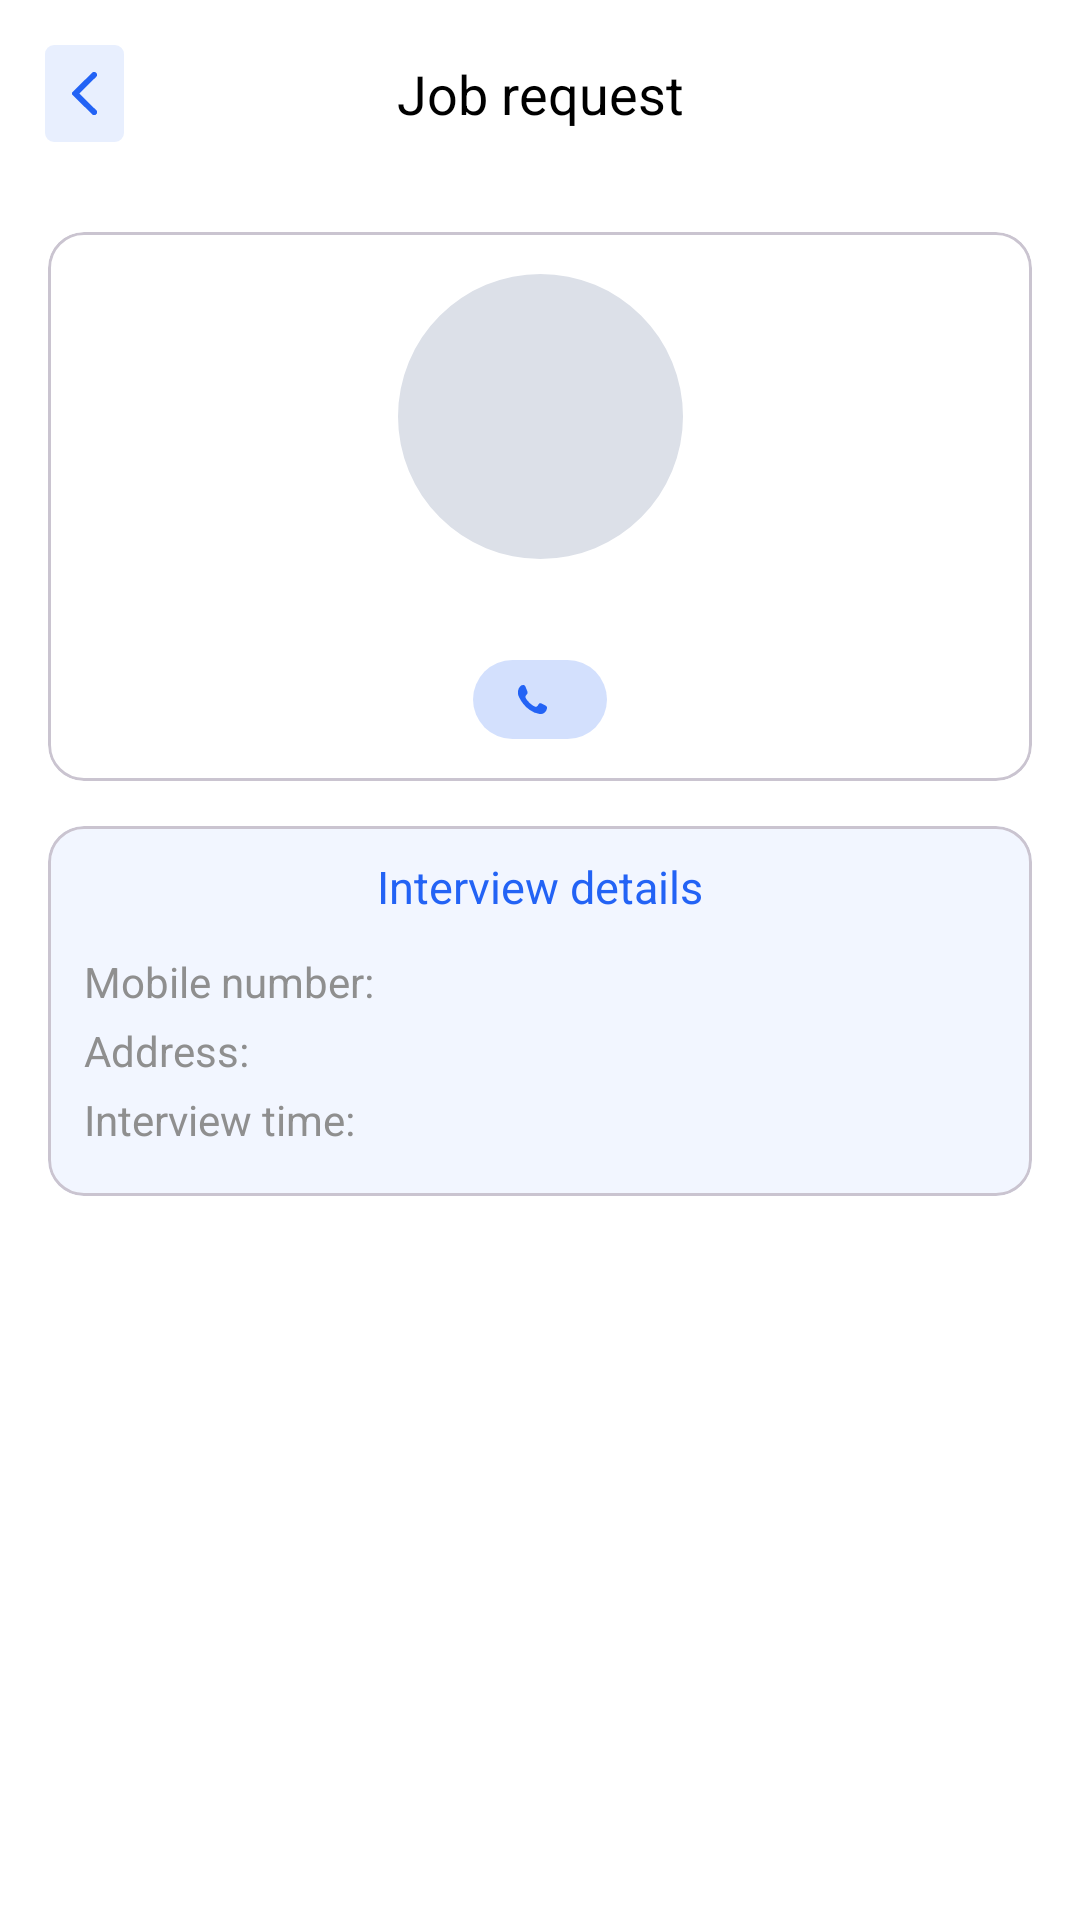

Point at icon controls on the screen. Image size 1080x1920, points as (x=x, y=y).
back: (x=84, y=93)
